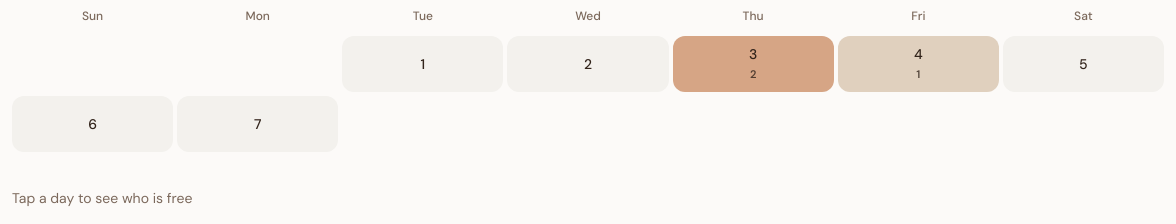
Test: AvailabilityCalendar › who is free, in read-only mode › tapping the same day again closes it
The image size is (1176, 224).
Step 1. Click the button "3 2" → [753, 64], box [673,36,834,92]
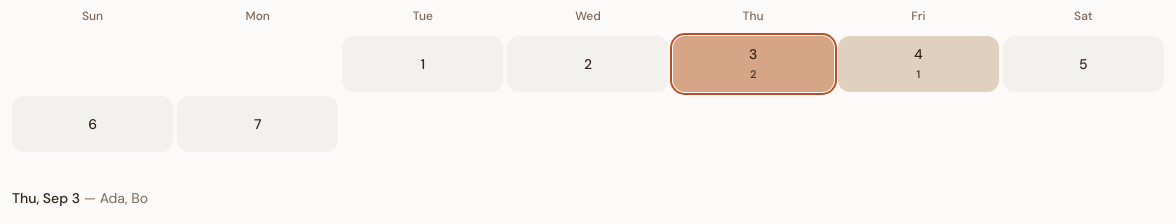
Step 2. Click the button "3 2" → [753, 64], box [673,36,834,92]
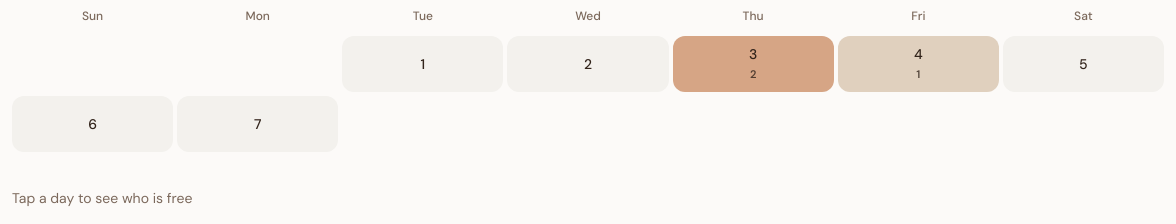
Expected: the element with test id "availability-detail" shows "Tap a day to see who", [12,189,192,207]
